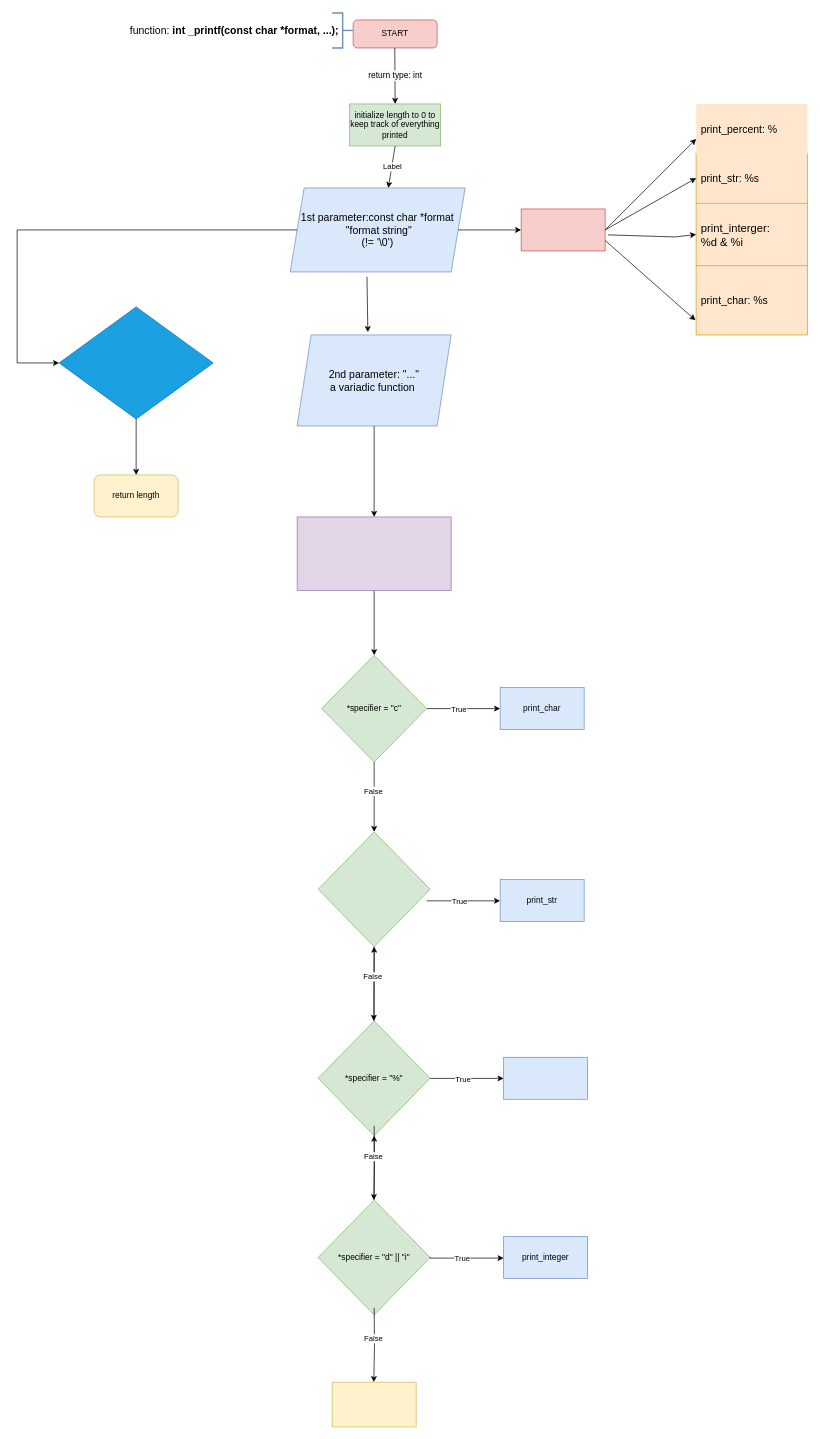
Image size: 820x1439. Some labels were removed from this diagram. The shapes that lost their labels are listed below. From the top down, each one's centre as x and y in pixels, then its label:
pixel 562 229: format_type
pixel 135 362: no more characters in format string. nulll ('\0')
pixel 373 553: get_format_func((char *specifier) (va_list))
pixel 373 889: *specifier = "s"
pixel 545 1078: print_percent
pixel 373 1404: Return NULL
